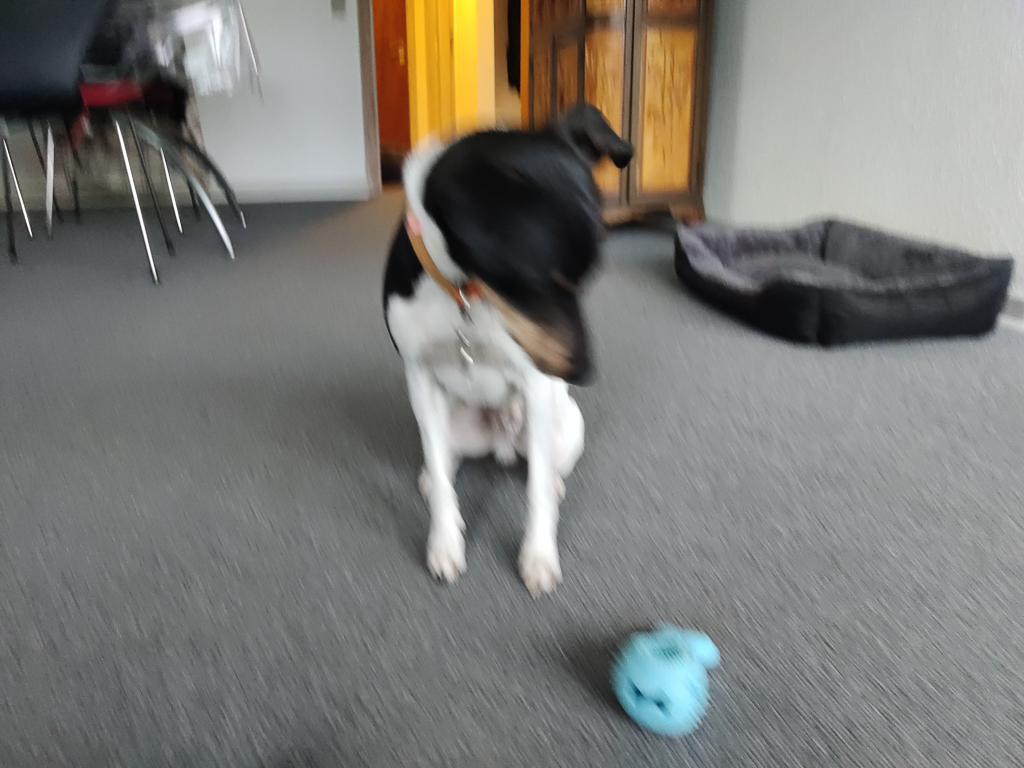Dog: (334, 93, 657, 615)
